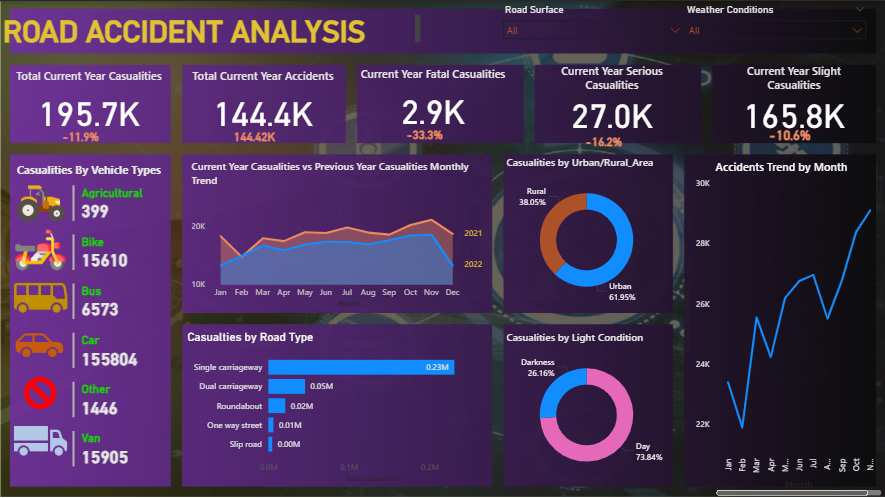

The page's visual inventory and layout, read from the dashboard file:
{"tool":"powerbi","page":{"name":"Page 1","canvas":[1280,720],"ordinal":0},"visuals":[{"type":"card","title":" Current Year Serious Casualities","fields":{"Values":["Calender.Current_Year_Casualities"]},"box":[771.3,89,228.5,100.8],"z":0,"group":"g4"},{"type":"card","title":" Current Year Slight Casualities","fields":{"Values":["Calender.Current_Year_Casualities"]},"box":[1033.1,89,228.4,101.2],"z":0,"group":"g5"},{"type":"card","title":" Current Year Fatal Casualities","fields":{"Values":["Calender.Current_Year_Casualities"]},"box":[511.8,94,228.4,101.2],"z":0,"group":"g3"},{"type":"group","id":"g1","title":"Group 1","box":[14.5,96.9,228.4,125.8],"z":0},{"type":"card","title":"Total Current Year Casualities","fields":{"Values":["Calender.Current_Year_Casualities"]},"box":[14.5,96.9,228.4,101.2],"z":0,"group":"g1"},{"type":"card","title":"Total Current Year Accidents","fields":{"Values":["Calender.Current_Year_Accidents_count"]},"box":[266.7,96.9,228.4,101.2],"z":0,"group":"g2"},{"type":"group","id":"g2","title":"Group 1","box":[266.7,96.9,228.4,125.8],"z":1000},{"type":"card","fields":{"Values":["Calender.Year_on_Year_Casualities"]},"box":[1081.7,167.9,117.6,50.4],"z":1000,"group":"g5"},{"type":"card","fields":{"Values":["Calender.Year_on_Year_Casualities"]},"box":[555.2,169.2,117.1,50.6],"z":1000,"group":"g3"},{"type":"card","fields":{"Values":["Calender.Year_on_Year_Casualities"]},"box":[57.9,172.1,117.1,50.6],"z":1000,"group":"g1"},{"type":"card","fields":{"Values":["Calender.Year_on_Year_Accidents"]},"box":[310.1,172.1,117.1,50.6],"z":1000,"group":"g2"},{"type":"card","fields":{"Values":["Calender.Year_on_Year_Casualities"]},"box":[815,178,117.6,50.4],"z":1000,"group":"g4"},{"type":"group","id":"g3","title":"Group 1","box":[511.8,94,228.4,125.8],"z":2000},{"type":"group","id":"g4","title":"Group 1","box":[771.3,89,228.5,139.4],"z":3000},{"type":"group","id":"g5","title":"Group 1","box":[1033.1,89,228.4,129.3],"z":4000},{"type":"textbox","box":[0,15.1,613.1,53.8],"z":5000},{"type":"multiRowCard","fields":{"Values":["Data.Vehicle_Type (groups)","Calender.Current_Year_Casualities"]},"box":[99.1,262,151.2,458.6],"z":6000},{"type":"textbox","box":[15.1,228.5,228.5,43.7],"z":7000},{"type":"areaChart","title":"Current Year Casualities  vs Previous Year Casualities Monthly Trend","fields":{"Category":["Calender.Month"],"Y":["Sum(Data.Number_of_Casualties)"],"Series":["Calender.Date.Variation.Date Hierarchy.Year"]},"box":[271.8,228.4,433.7,219.8],"z":8000},{"type":"donutChart","title":"Casualities by Urban/Rural_Area","fields":{"Category":["Data.Urban_or_Rural_Area"],"Y":["Calender.Current_Year_Casualities"]},"box":[727.2,222.7,241.4,225.5],"z":9000},{"type":"donutChart","title":"Casualities by Light Condition","fields":{"Y":["Calender.Current_Year_Casualities"],"Category":["Data.Light_Conditions (groups)"]},"box":[727.2,475.7,241.4,225.5],"z":10000},{"type":"clusteredBarChart","title":"Casualties by Road Type","fields":{"Category":["Data.Road_Type"],"Y":["Calender.Total Casualties"]},"box":[266,475.7,439.5,225.5],"z":11000},{"type":"lineChart","title":"Accidents Trend by Month","fields":{"Category":["Calender.Month"],"Y":["Calender.Total Casualties"]},"box":[980.2,228.4,299.3,491.6],"z":12000},{"type":"image","box":[0,250.1,117.1,83.9],"z":13000},{"type":"image","box":[8.7,318.1,99.8,83.9],"z":14000},{"type":"image","box":[0,381.7,117.1,94],"z":15000},{"type":"image","box":[14.5,448.2,85.3,99.8],"z":16000},{"type":"image","box":[14.5,532,86.7,69.4],"z":17000},{"type":"image","box":[8.7,588.4,99.8,94],"z":18000},{"type":"slicer","fields":{"Values":["Data.Weather_Conditions (groups)"]},"box":[980.2,0,281.9,68],"z":19000},{"type":"slicer","fields":{"Values":["Data.Road_Surface_Conditions (groups)"]},"box":[717.1,0,281.9,68],"z":20000}]}

Visuals, with their boxes in screenshot pixels (x1, y1, x2, y2), scaled from the page's 1280x720 canvas onto the 885x498 screenshot:
" Current Year Serious Casualities" card: detection(533, 62, 691, 131)
" Current Year Slight Casualities" card: detection(714, 62, 872, 132)
" Current Year Fatal Casualities" card: detection(354, 65, 512, 135)
"Group 1" group: detection(10, 67, 168, 154)
"Total Current Year Casualities" card: detection(10, 67, 168, 137)
"Total Current Year Accidents" card: detection(184, 67, 342, 137)
"Group 1" group: detection(184, 67, 342, 154)
card - Calender.Year_on_Year_Casualities: detection(748, 116, 829, 151)
card - Calender.Year_on_Year_Casualities: detection(384, 117, 465, 152)
card - Calender.Year_on_Year_Casualities: detection(40, 119, 121, 154)
card - Calender.Year_on_Year_Accidents: detection(214, 119, 295, 154)
card - Calender.Year_on_Year_Casualities: detection(563, 123, 645, 158)
"Group 1" group: detection(354, 65, 512, 152)
"Group 1" group: detection(533, 62, 691, 158)
"Group 1" group: detection(714, 62, 872, 151)
textbox: detection(0, 10, 424, 48)
multiRowCard - Data.Vehicle_Type (groups) x Calender.Current_Year_Casualities: detection(69, 181, 173, 497)
textbox: detection(10, 158, 168, 188)
"Current Year Casualities  vs Previous Year Casualities Monthly Trend" areaChart: detection(188, 158, 488, 310)
"Casualities by Urban/Rural_Area" donutChart: detection(503, 154, 670, 310)
"Casualities by Light Condition" donutChart: detection(503, 329, 670, 485)
"Casualties by Road Type" clusteredBarChart: detection(184, 329, 488, 485)
"Accidents Trend by Month" lineChart: detection(678, 158, 884, 497)
image: detection(0, 173, 81, 231)
image: detection(6, 220, 75, 278)
image: detection(0, 264, 81, 329)
image: detection(10, 310, 69, 379)
image: detection(10, 368, 70, 416)
image: detection(6, 407, 75, 472)
slicer - Data.Weather_Conditions (groups): detection(678, 0, 873, 47)
slicer - Data.Road_Surface_Conditions (groups): detection(496, 0, 691, 47)
